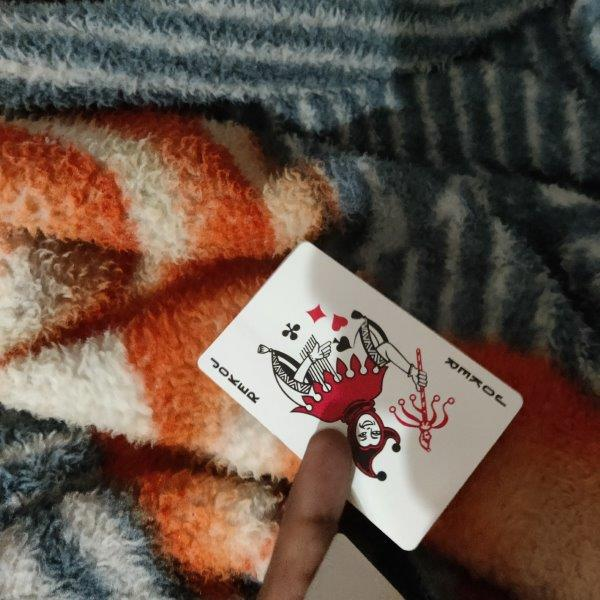Joker: (196, 241, 525, 551)
